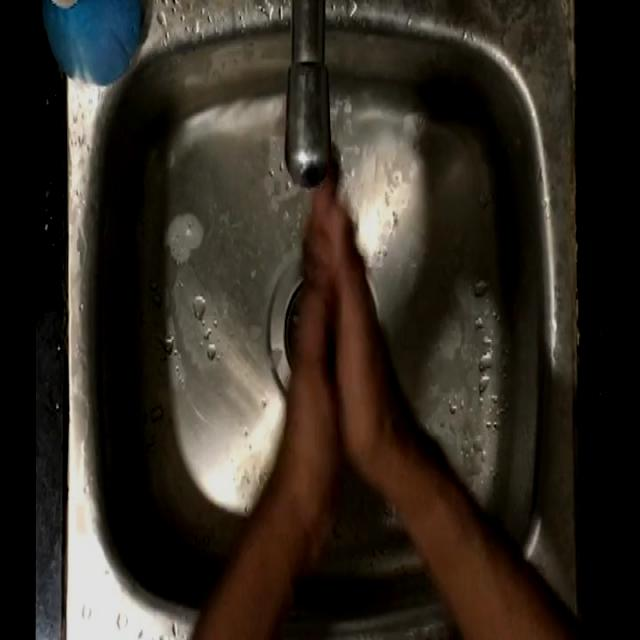step_1: (264, 124, 401, 454)
